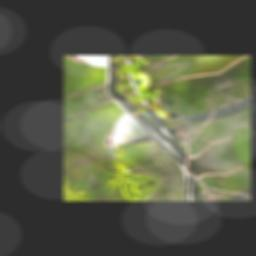Cuckoo: (95, 76, 237, 161)
